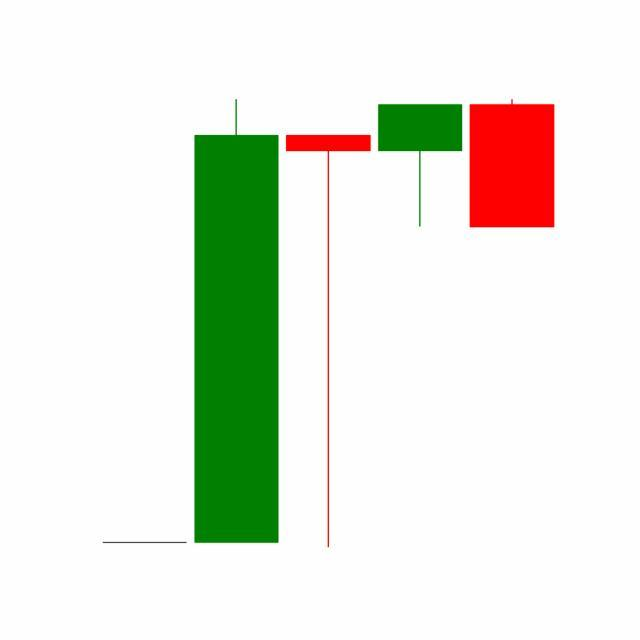Hanging Man: (374, 103, 468, 229)
